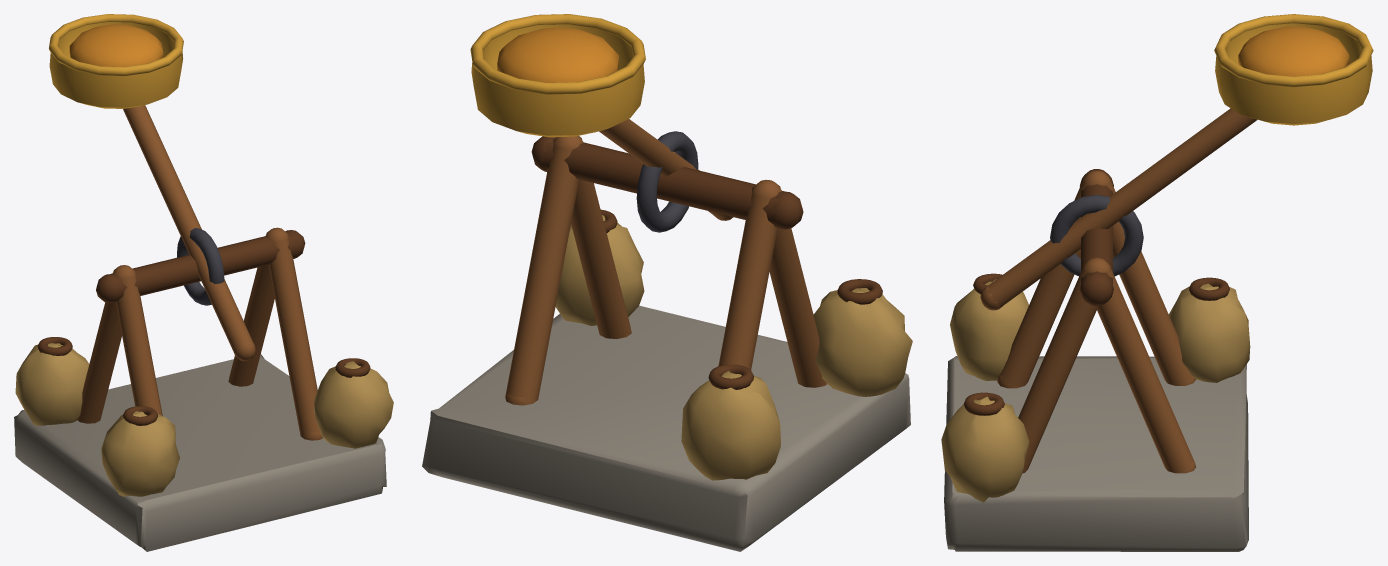
The model's file is d_catapult.fbx.
The picture shows the model from 3 angles, left to right: view 1: azimuth 30°, elevation 25°; view 2: azimuth 150°, elevation 25°; view 3: azimuth 270°, elevation 25°; orthographic projection. The views are drawn at different scales.
Parts seen in each view (by area): view 1: d_catapult; view 2: d_catapult; view 3: d_catapult.
Part boxes in pixels (x1=…): d_catapult: x1=14, y1=14, x2=393, y2=551; d_catapult: x1=422, y1=14, x2=912, y2=551; d_catapult: x1=941, y1=14, x2=1373, y2=551.
Bounding box in the file's own units: 2.01 × 2.65 × 2.3.
